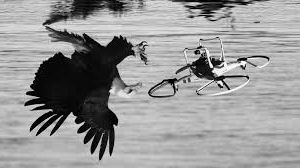Bird: (22, 21, 150, 161)
Drone: (148, 33, 272, 101)
